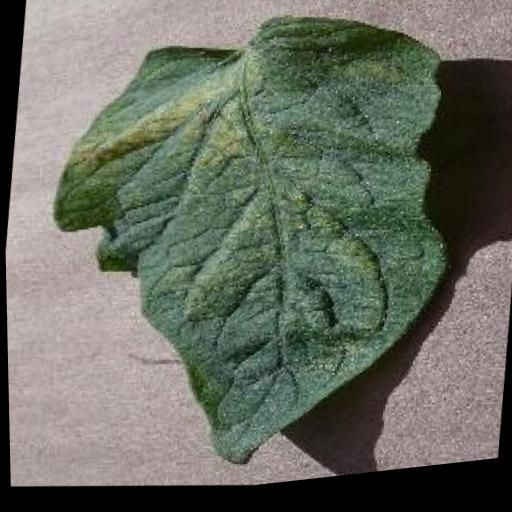Spider Mites: (22, 0, 474, 508)
